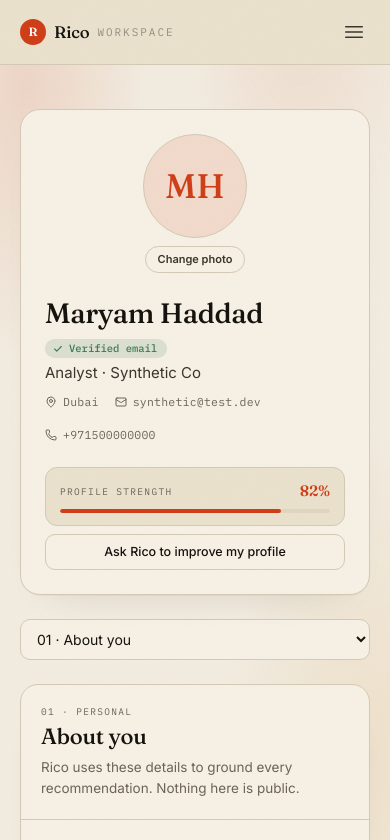
Test case: profile editorial — real-data rendering › shows the Free plan card only after the API confirms an inactive subscription
Expected: the heading "Maryam Haddad" is shown, [45, 296, 263, 329]
Select "08 · Billing" in the dropdown named "Sections" at point(195, 639), box [20, 619, 370, 660]
(page scrolled)
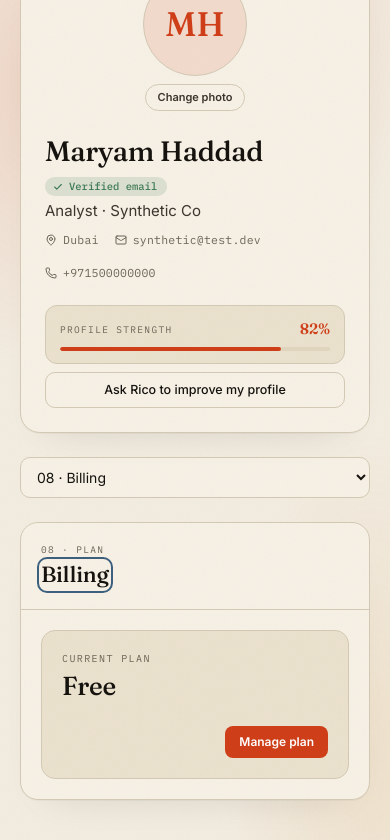
Now the text "Free" is shown, box [62, 670, 116, 702]
